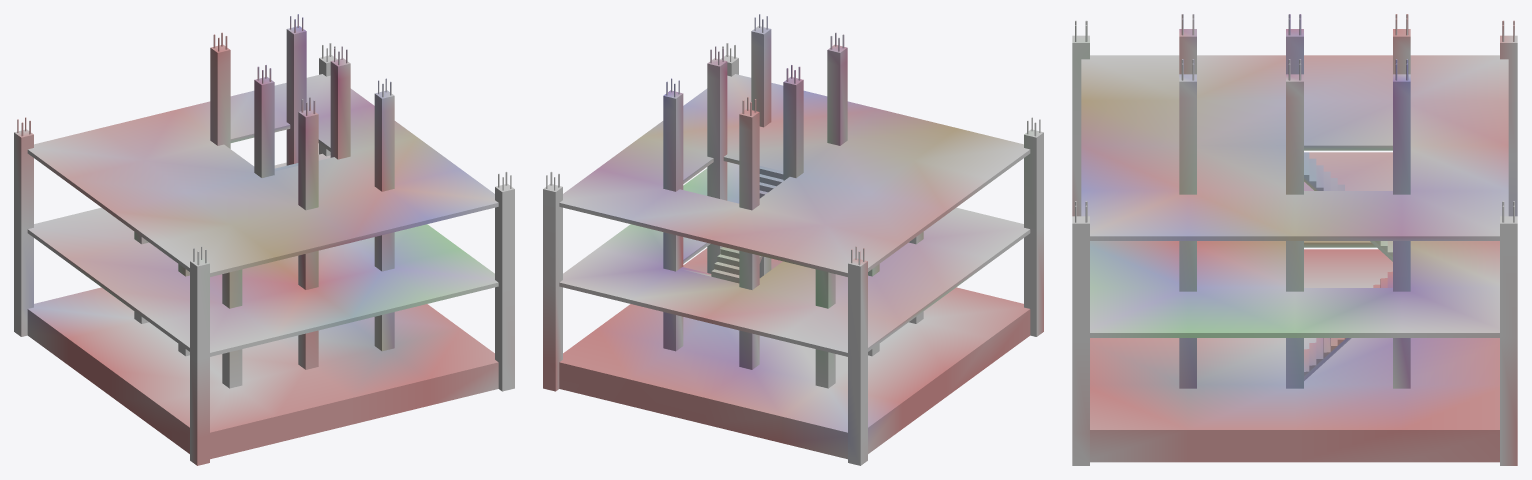
3 views of the same model, side by side, from view 1: azimuth 30°, elevation 25°; view 2: azimuth 150°, elevation 25°; view 3: azimuth 270°, elevation 25° (orthographic). The views are drawn at different scales.
Parts seen in each view (by area): view 1: Structures_4; view 2: Structures_4; view 3: Structures_4.
Boxes of the visible parts, <box> form: Structures_4: <box>14,14,514,465</box>; Structures_4: <box>543,14,1043,465</box>; Structures_4: <box>1072,14,1517,465</box>.
Size of what is drawn, in the model's own units: 12.5 by 11 by 12.5.
